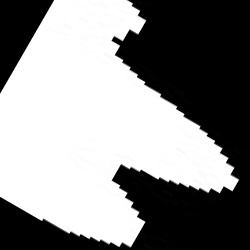spot: (2, 2, 239, 245)
